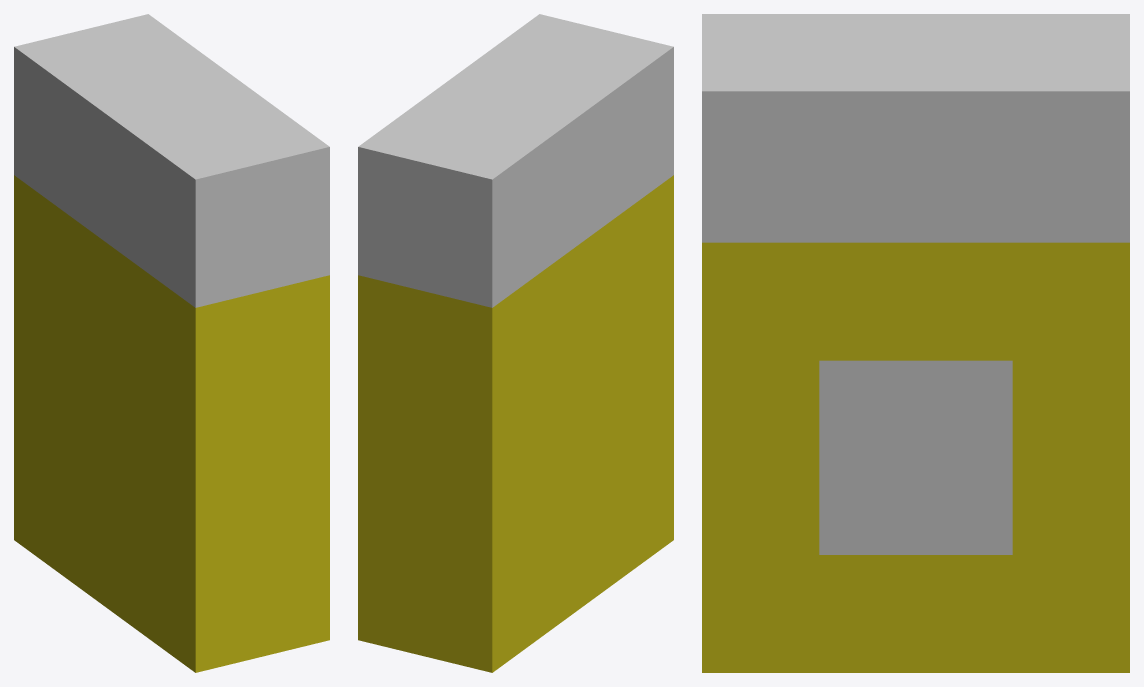
The model's file is MaizenaBox.dae.
3 renders of one model, left to right at view 1: azimuth 30°, elevation 25°; view 2: azimuth 150°, elevation 25°; view 3: azimuth 270°, elevation 25°, orthographic. The views are drawn at different scales.
Parts seen in each view (by area): view 1: Cube; view 2: Cube; view 3: Cube.
Boxes of the visible parts, x1,y1,x2,y2 form: Cube: (14,14,329,672); Cube: (358,14,673,672); Cube: (702,14,1129,672).
Size of the model in its own units: 0.047 by 0.11 by 0.165.
